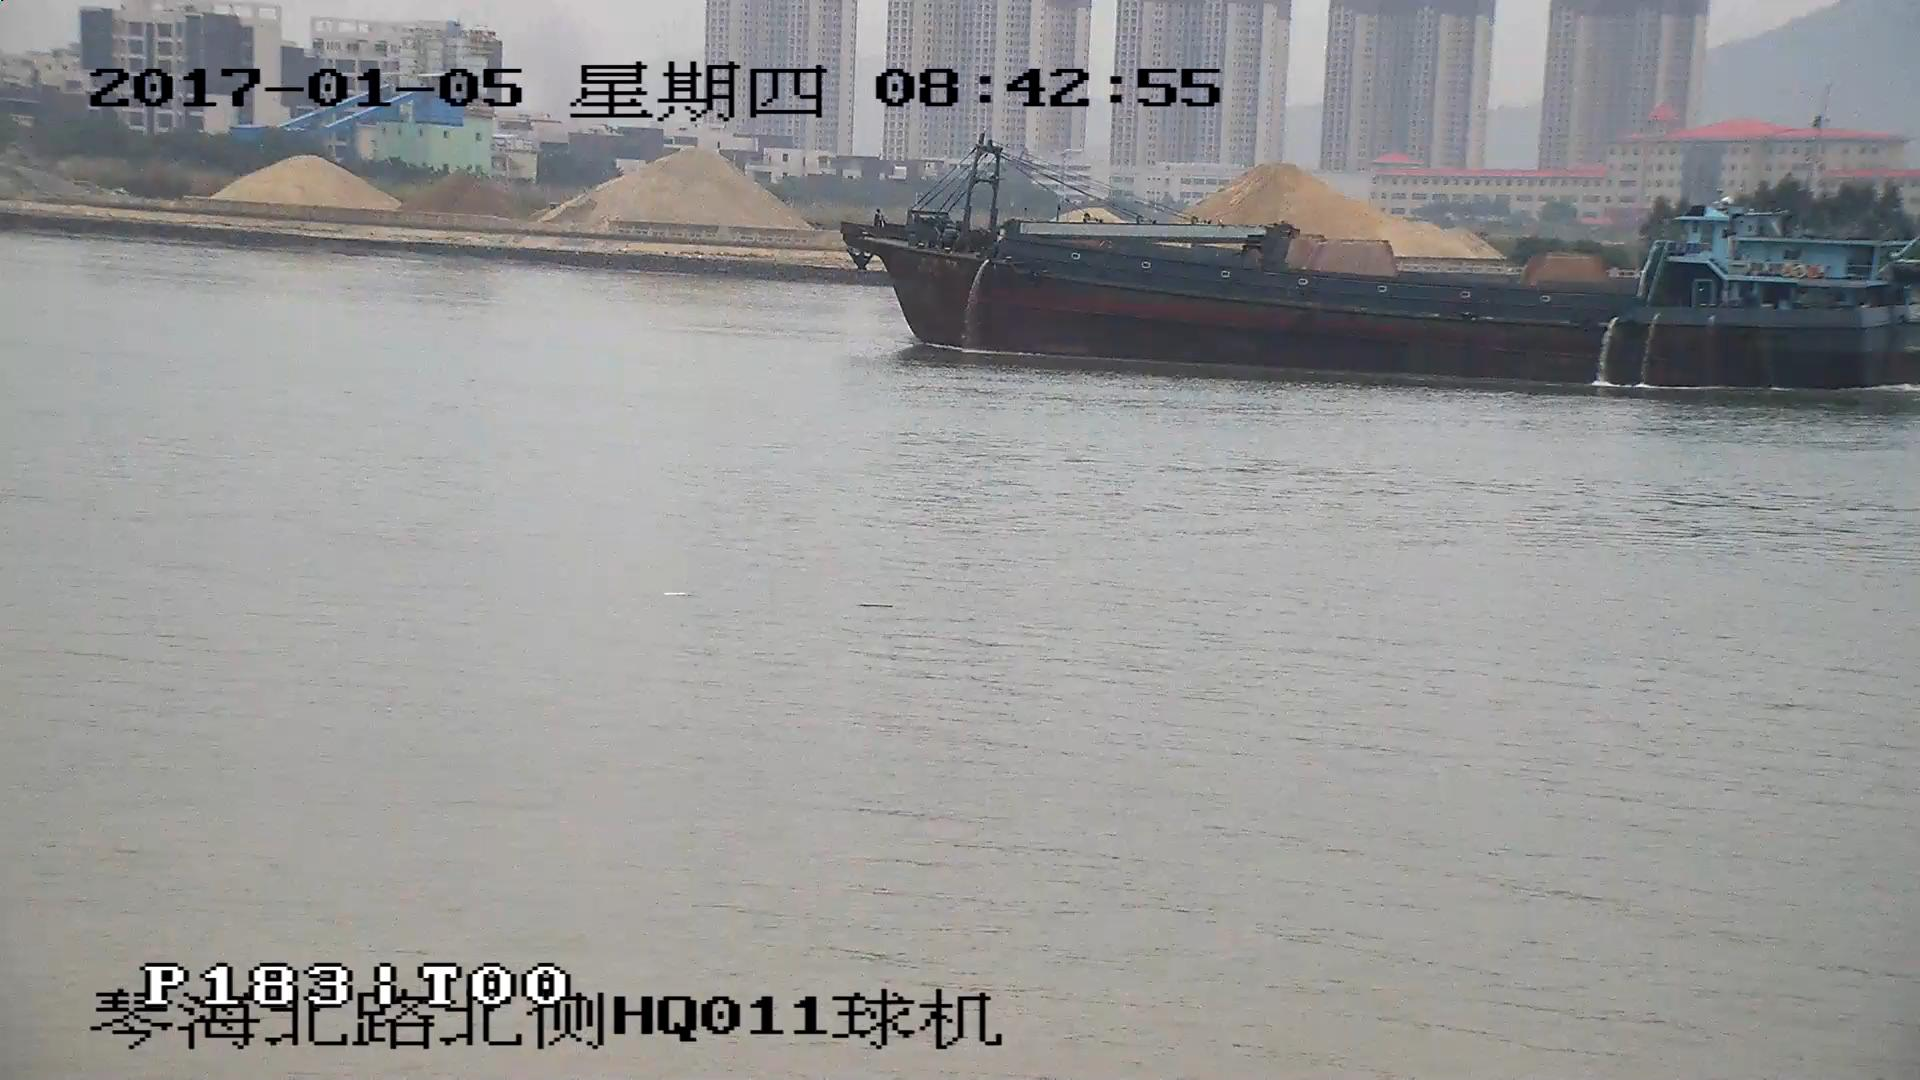bulk cargo carrier: (844, 151, 1920, 391)
